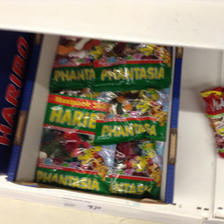candy: (38, 35, 168, 196)
